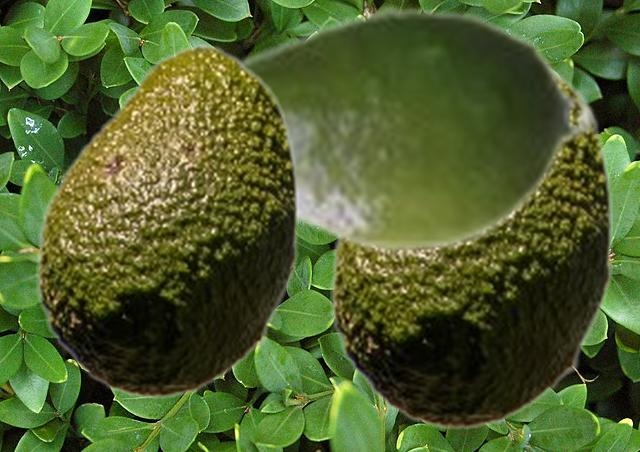avocado: (330, 67, 611, 430), (233, 1, 597, 257), (36, 44, 297, 399)
